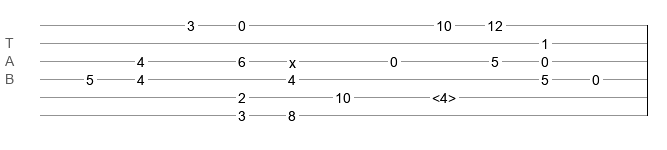0: (238, 18, 246, 28), (390, 54, 398, 64), (541, 54, 549, 64), (592, 72, 600, 82)
1: (541, 36, 549, 46)
10: (335, 90, 351, 100), (436, 18, 452, 28)
12: (487, 18, 503, 28)
2: (238, 90, 246, 100)
3: (187, 18, 195, 28), (238, 108, 246, 118)
4: (137, 54, 145, 64), (137, 72, 145, 82), (288, 72, 296, 82)
5: (86, 72, 94, 82), (491, 54, 499, 64), (541, 72, 549, 82)
6: (238, 54, 246, 64)
8: (288, 108, 296, 118)
harmonic: (432, 90, 456, 100)
x: (289, 55, 296, 63)
